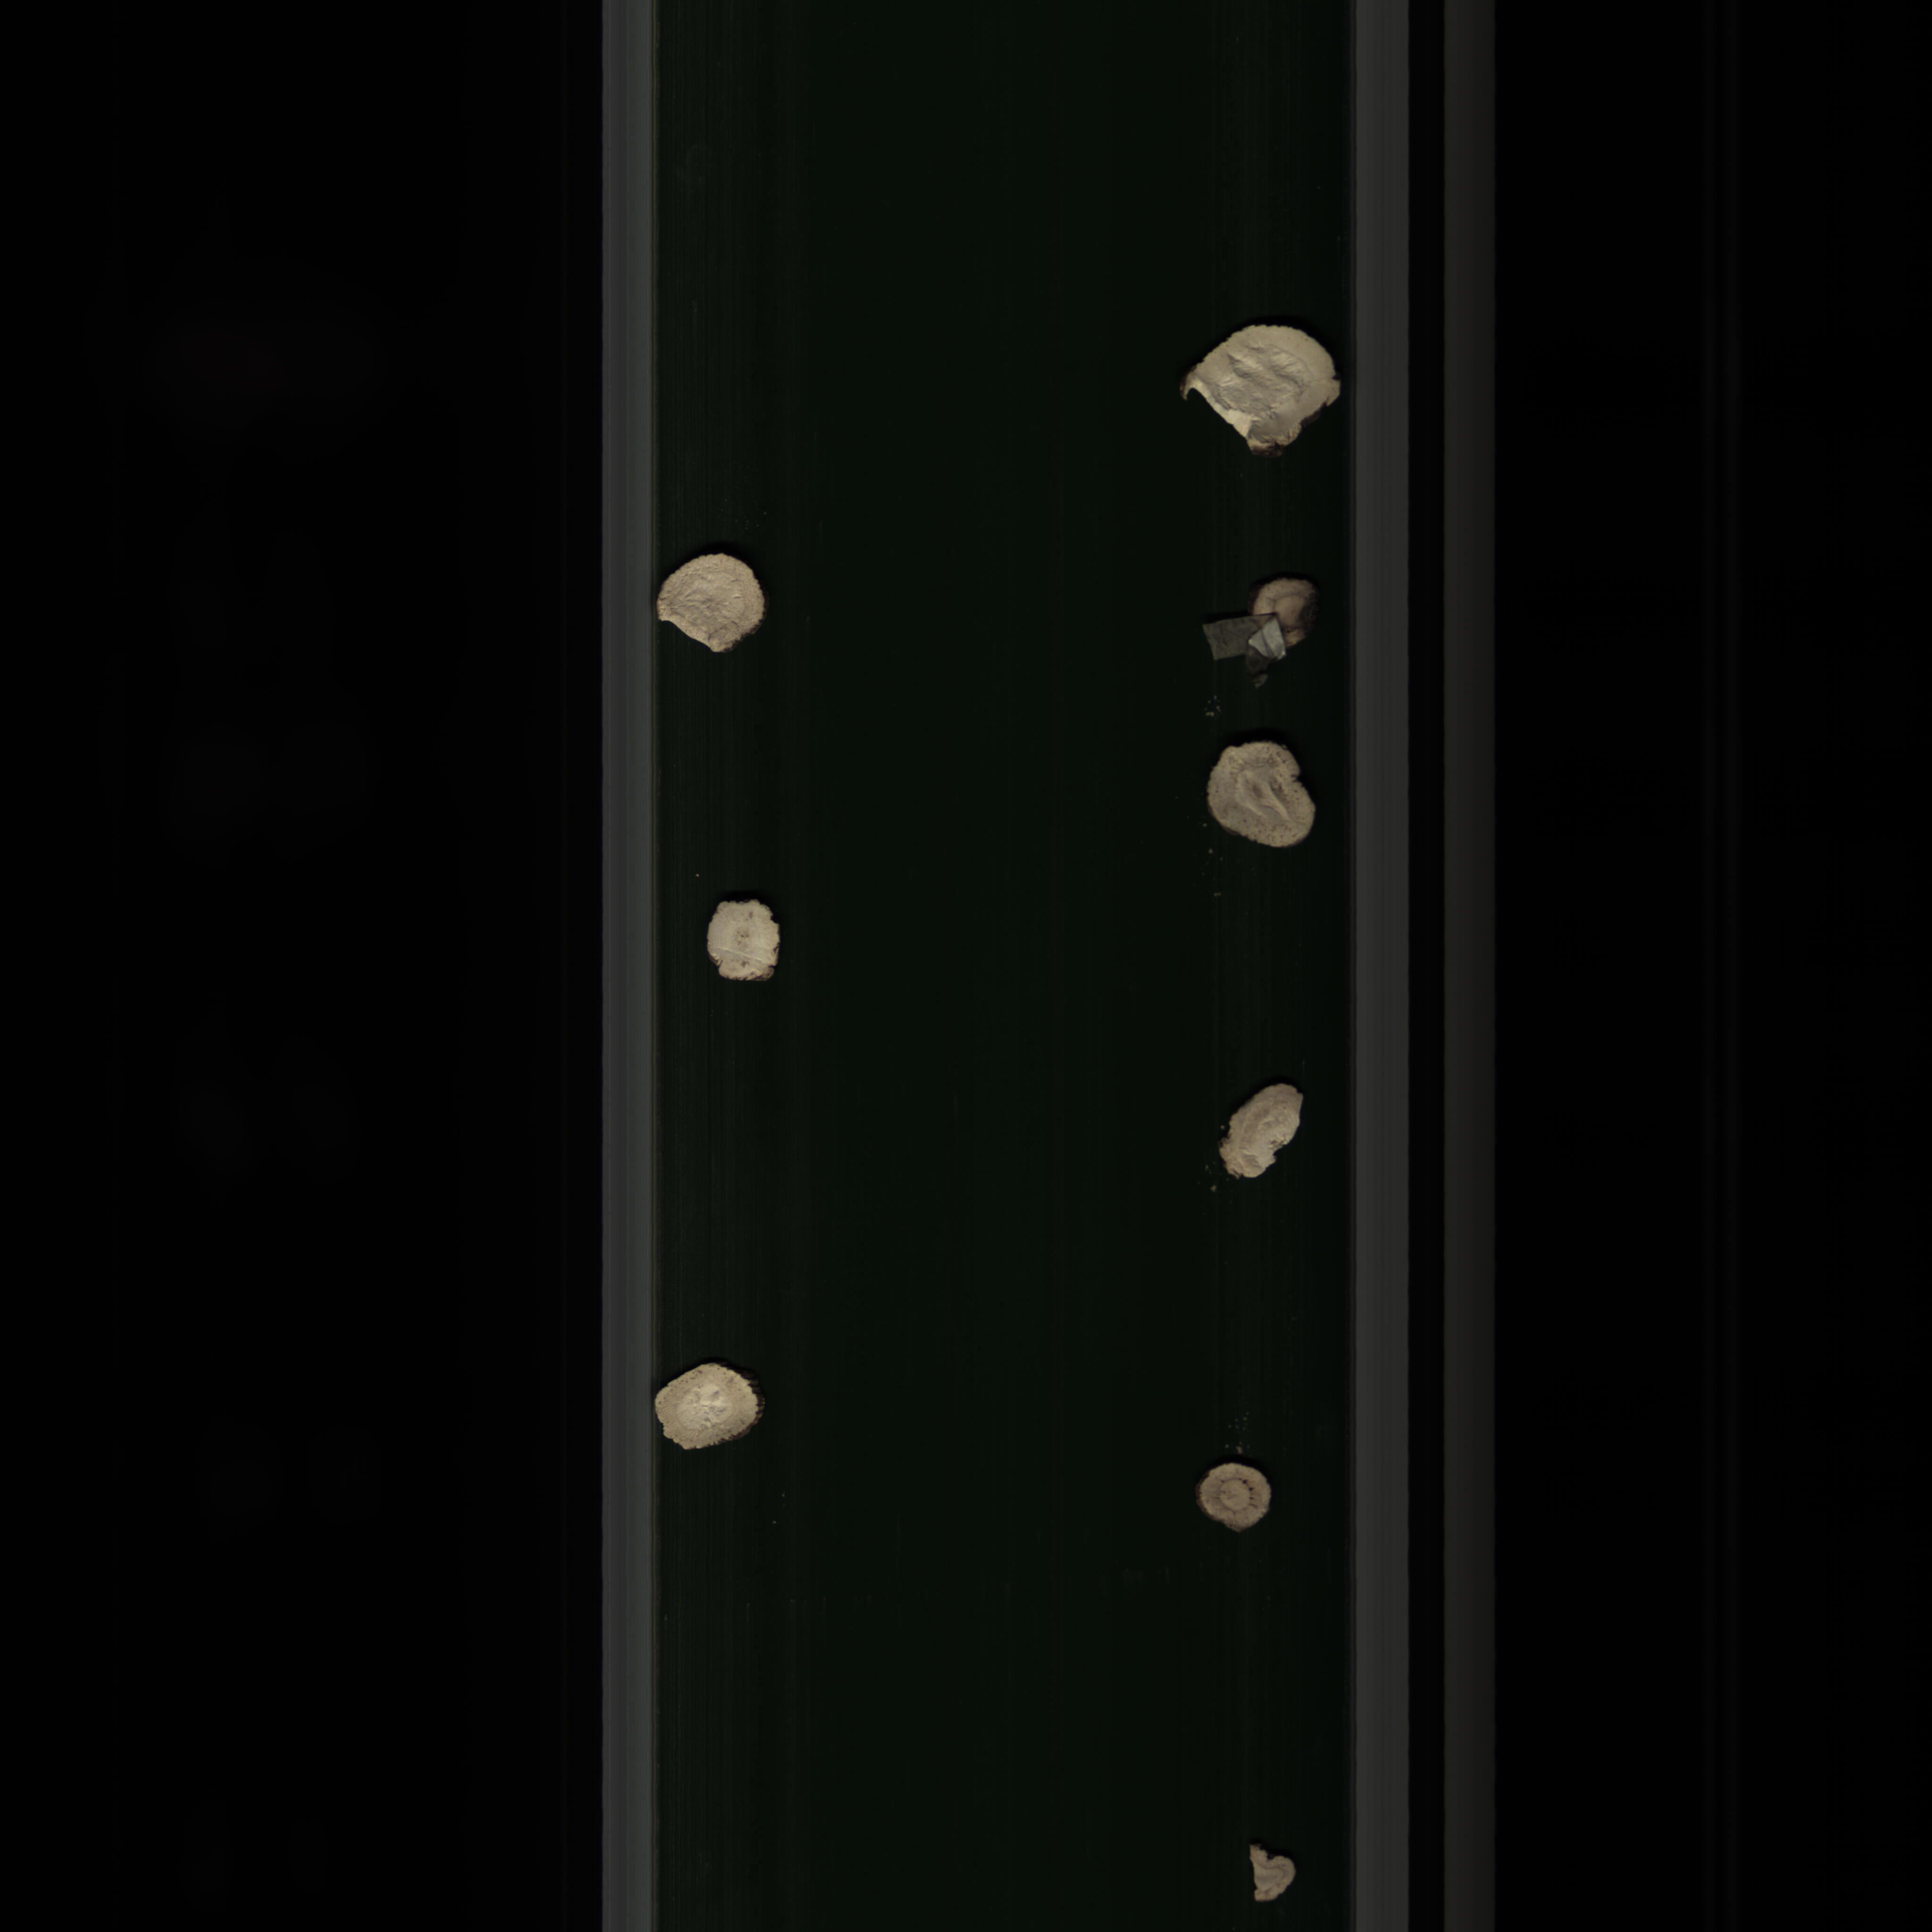bark: (1194, 568, 1323, 697)
debris: (1152, 324, 1355, 455), (655, 541, 770, 663), (1198, 1083, 1322, 1187), (1180, 1458, 1272, 1546), (1235, 1836, 1304, 1916)
